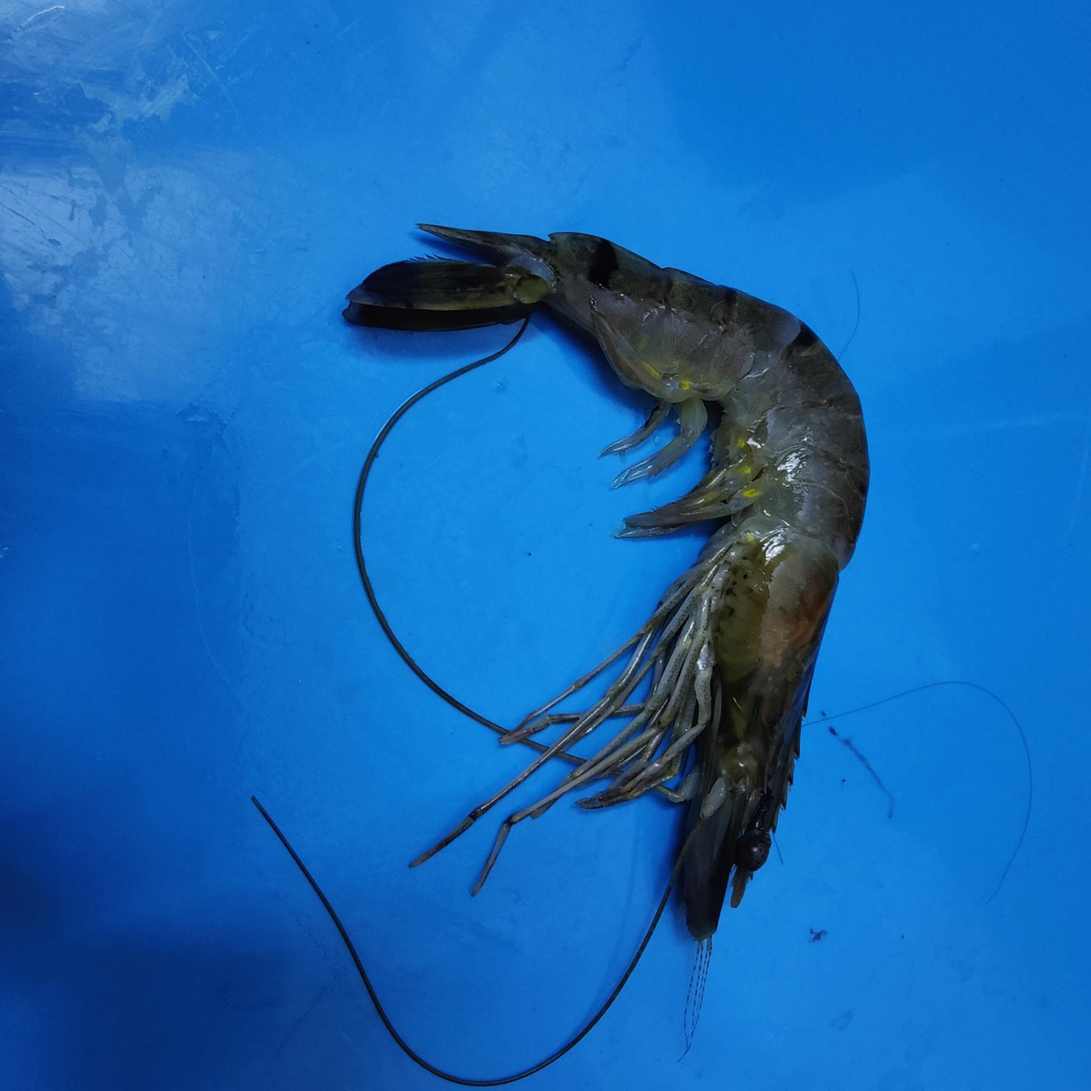whitespot: (723, 557, 818, 734)
